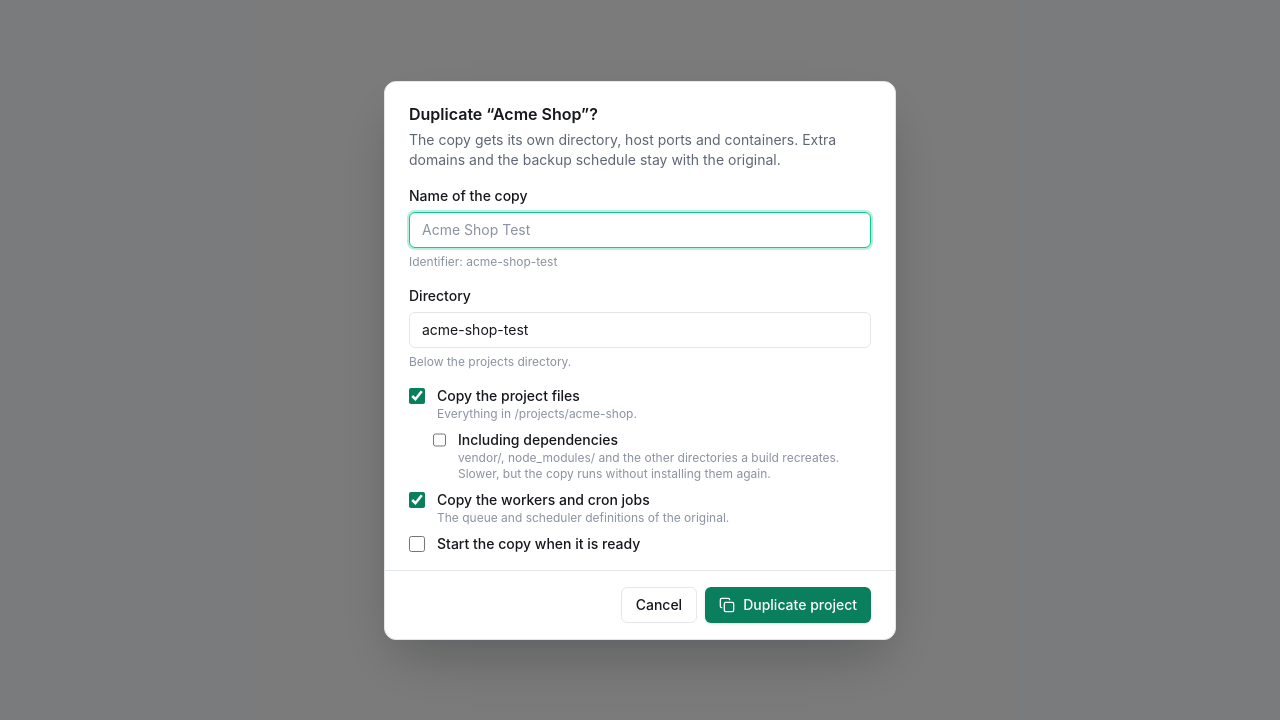
DuplicateProjectDialog › offers the dependency option only with the files and hides parts the project has not
Expected: the checkbox labelled "Including dependencies" is shown, [433,432,446,448]
Click the checkbox labelled "Copy the project files Everything in /projects/acme-shop." at (417, 396), box [409,388,425,404]
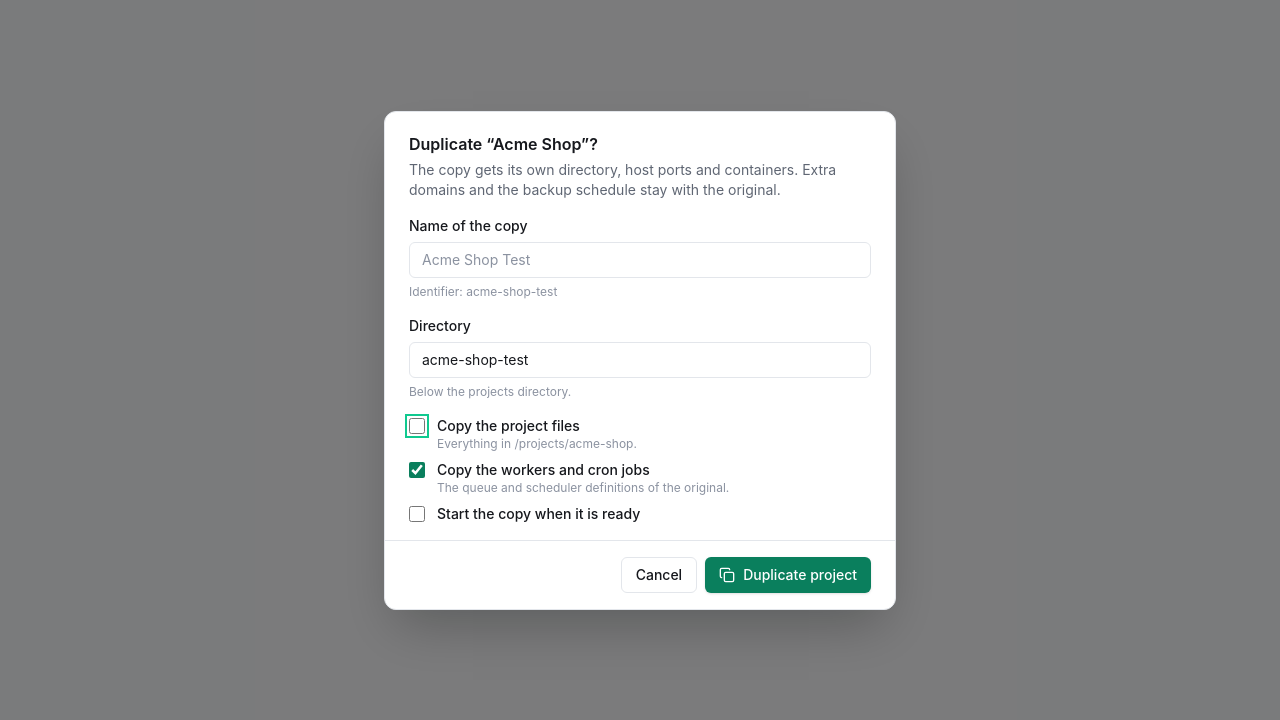
Expected: the text "Including dependencies" is gone
